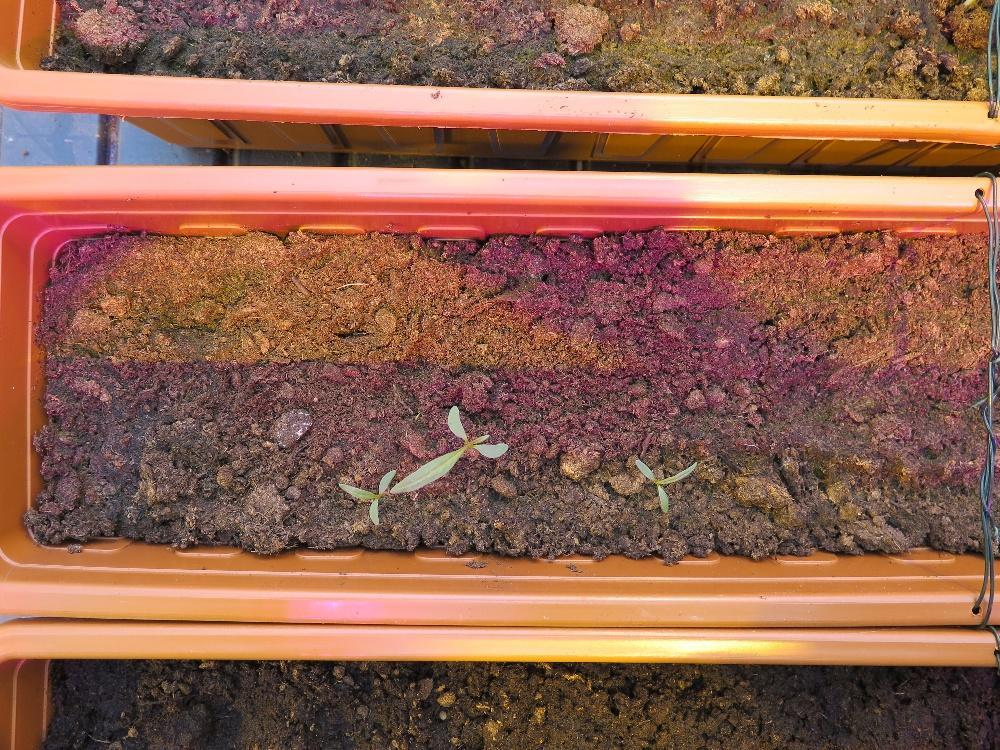weed: (632, 457, 699, 515)
